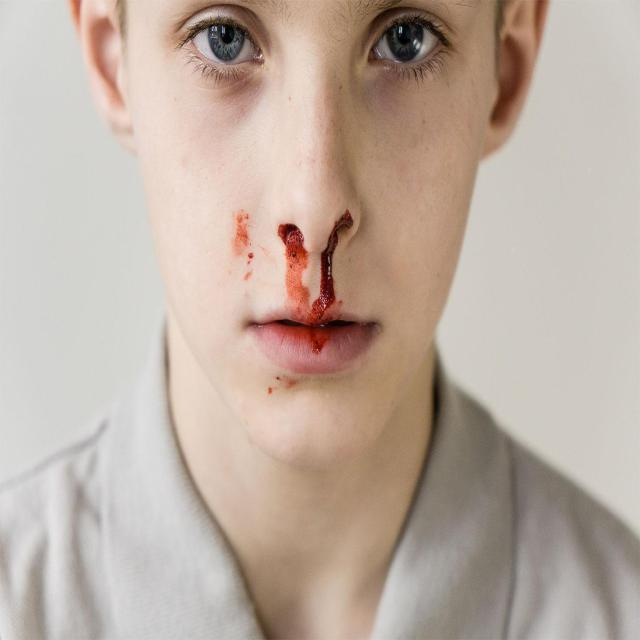flood: (224, 206, 380, 329)
